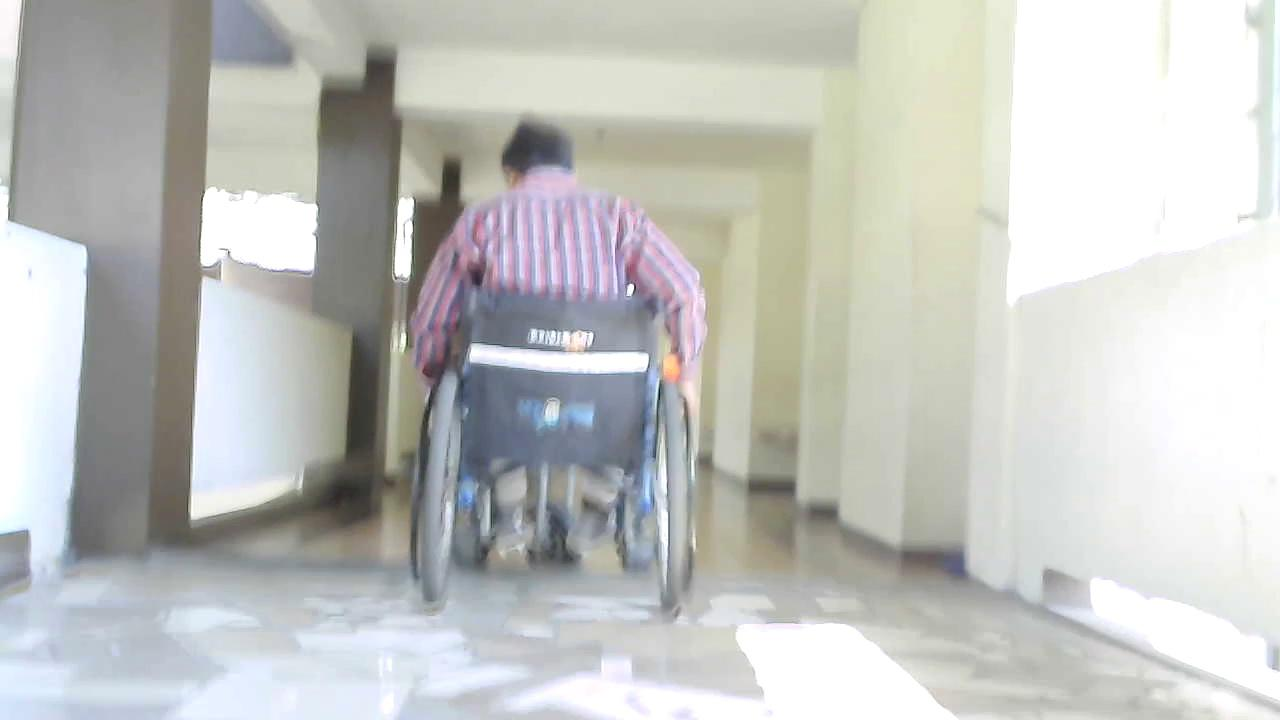person: (406, 115, 709, 589)
wheelchair: (375, 269, 716, 650)
